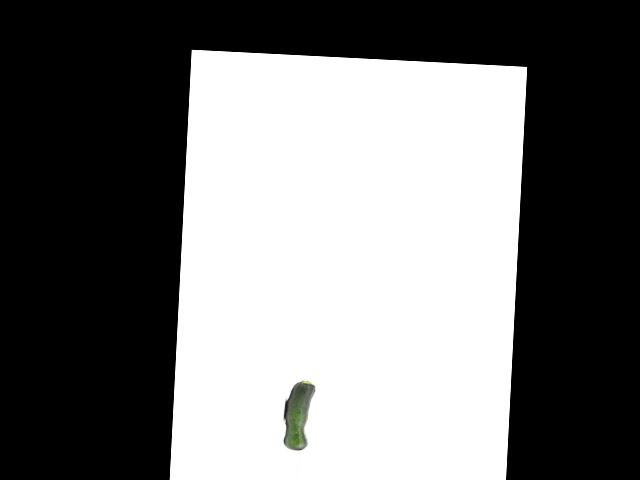cucumber: (282, 379, 315, 450)
